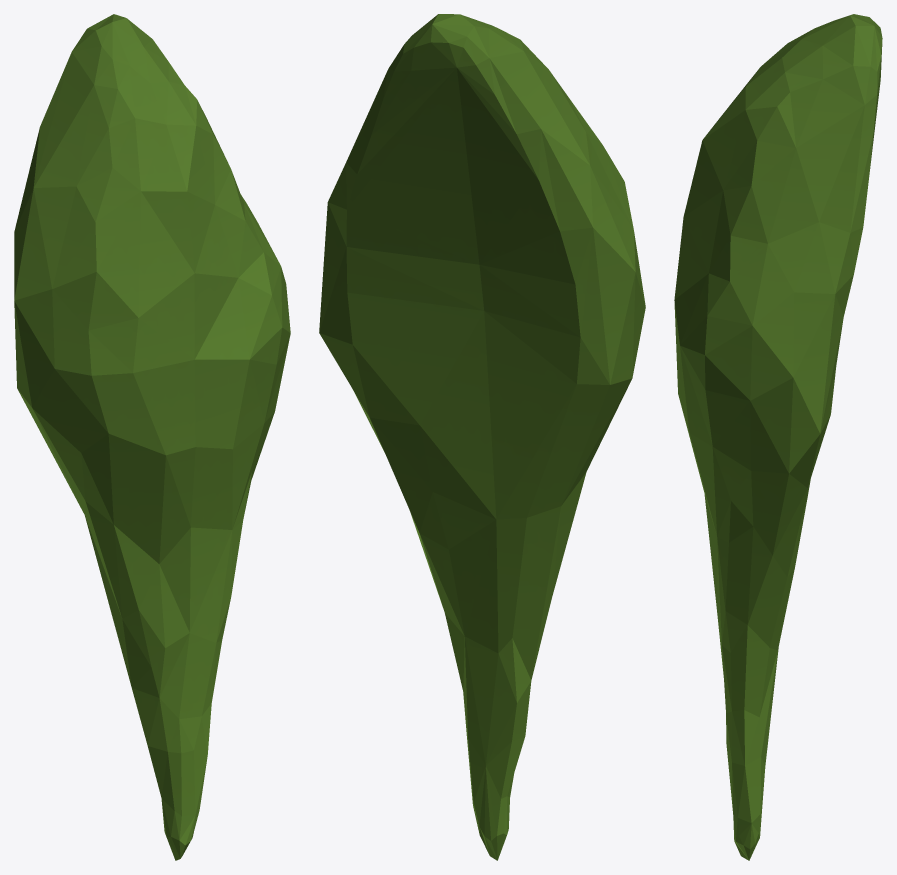
The model's file is Cavern_HangingBush-01.fbx.
The picture shows the model from 3 angles, left to right: view 1: azimuth 30°, elevation 25°; view 2: azimuth 150°, elevation 25°; view 3: azimuth 270°, elevation 25°; orthographic projection. The views are drawn at different scales.
Visible parts, largest first — view 1: Cavern_HangingBush-01; view 2: Cavern_HangingBush-01; view 3: Cavern_HangingBush-01.
Part boxes in pixels (x1,y1,x2,y2): Cavern_HangingBush-01: [14, 14, 290, 860]; Cavern_HangingBush-01: [319, 14, 645, 860]; Cavern_HangingBush-01: [674, 14, 882, 860].
Bounding box in the file's own units: 114 × 319 × 71.71.
1 material, 1 textured.
